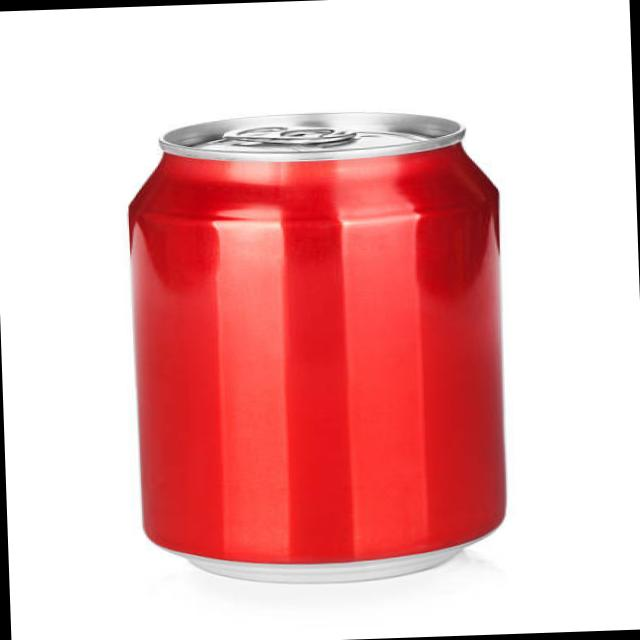soda_can: (96, 86, 565, 633)
